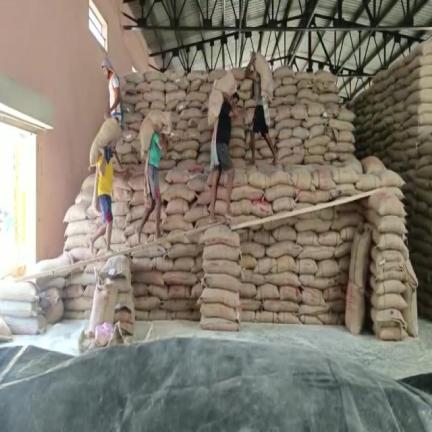Zone-Counting: (88, 118, 122, 252), (136, 110, 170, 238), (209, 72, 239, 216), (244, 52, 277, 164)
